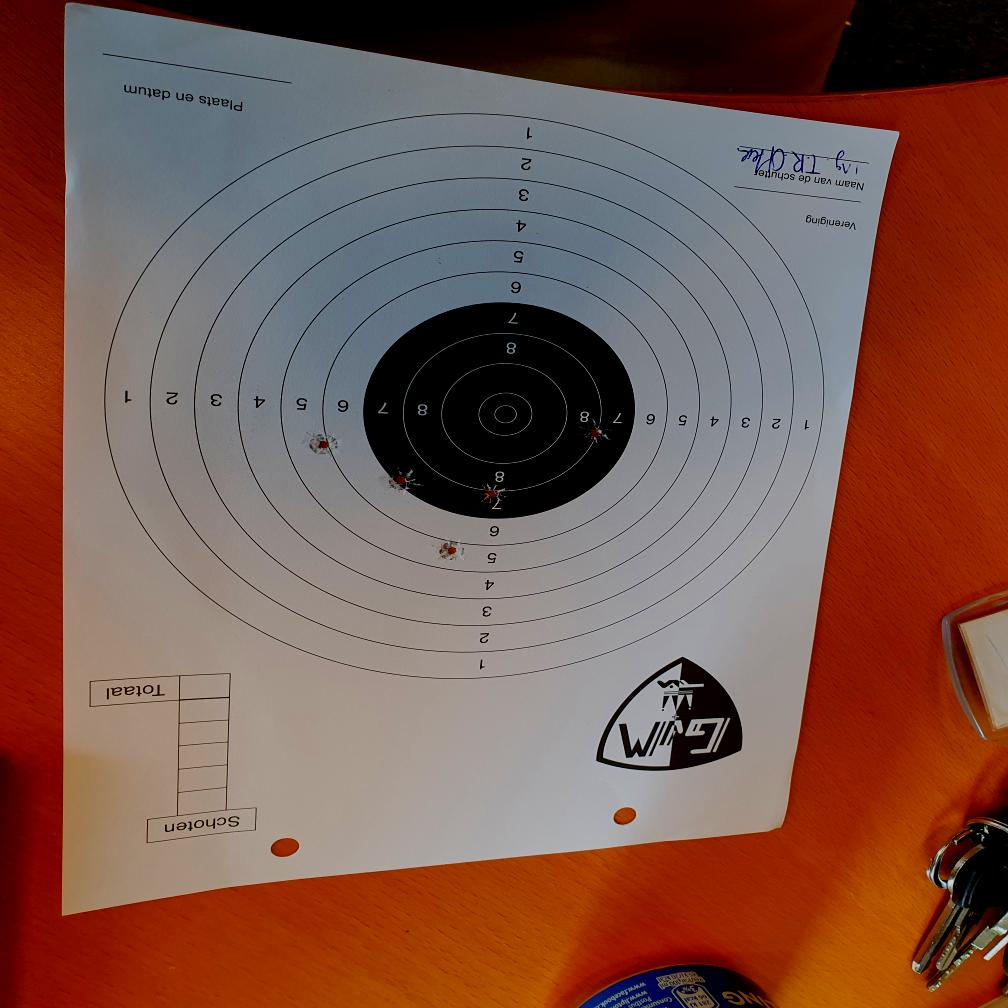6: (302, 432, 341, 462), (432, 538, 467, 565)
7: (380, 469, 418, 496)
8: (572, 419, 610, 446), (474, 480, 508, 506)
Target: (104, 111, 820, 681)
black_contour: (362, 303, 636, 520)
